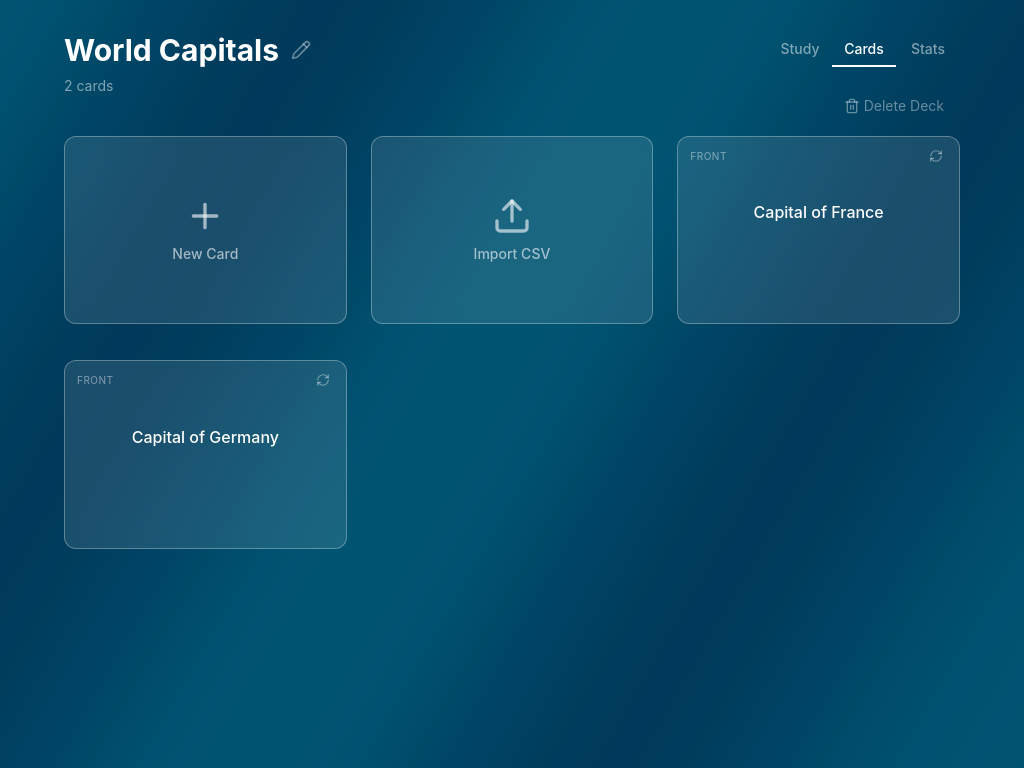
Test: DeckCardsPage › reverts card changes when revert button is clicked
Replace the text in the 1st text box showing "Capital of France" with "Something else": (819, 224) [694,200,943,248]
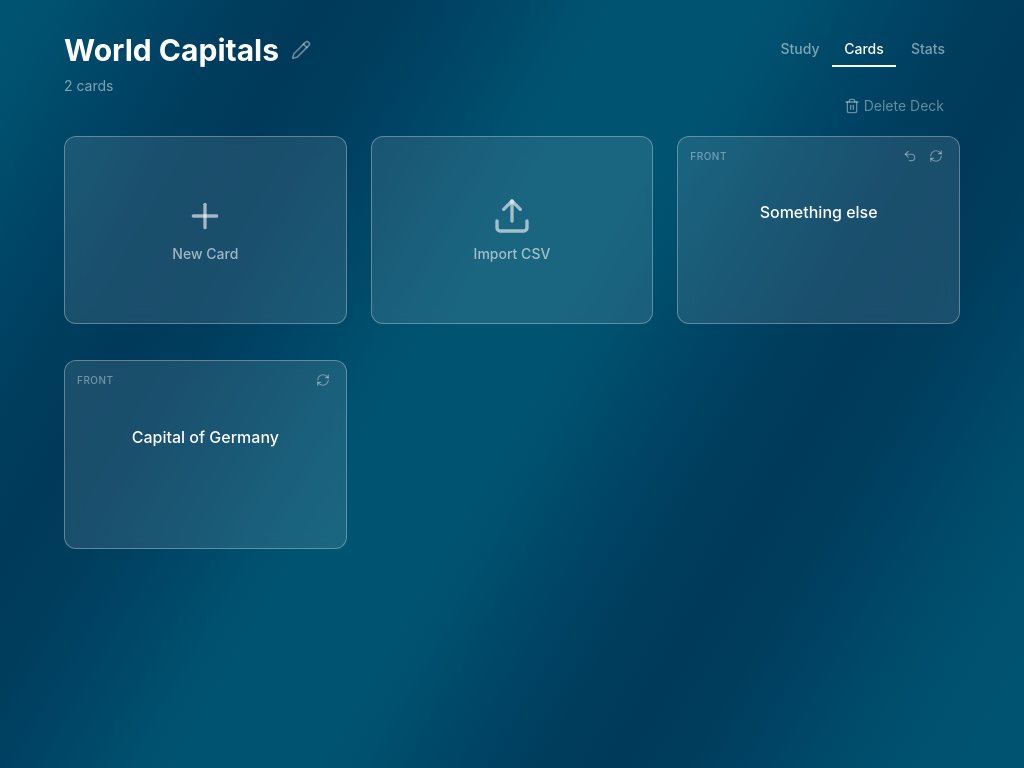
Expected: the button titled "Revert changes" is shown
Click the button titled "Revert changes": (910, 156) [899,145,921,167]
Wait 900 ms
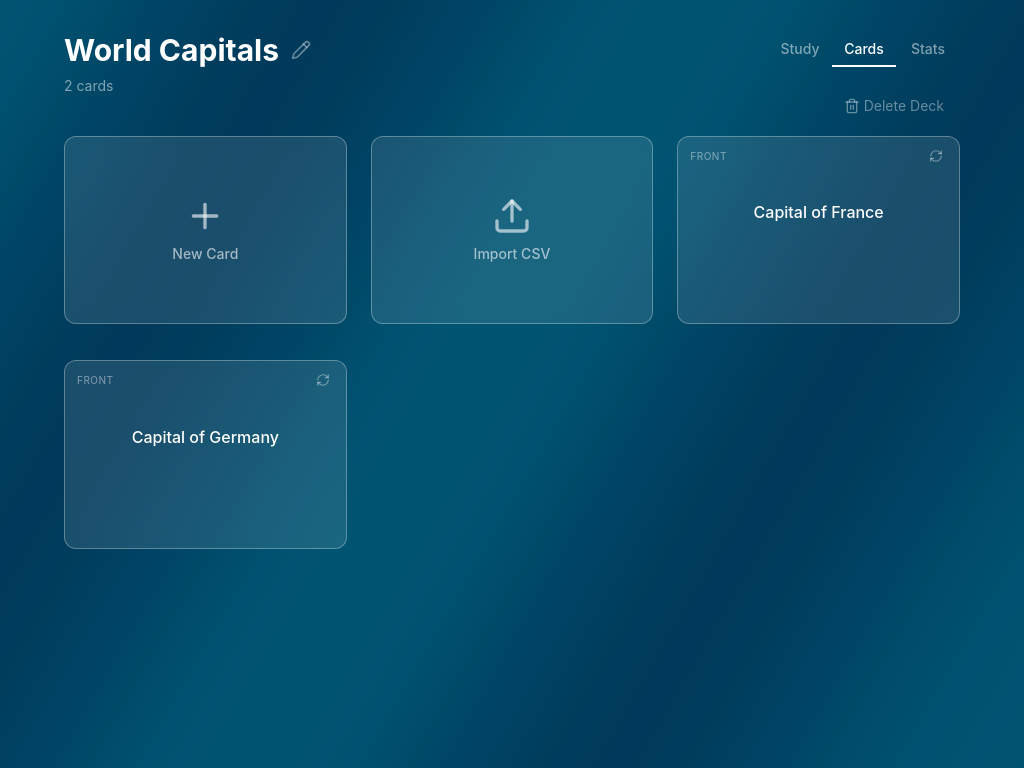
Expected: the field showing "Something else" is not shown
Expected: the 1st text box showing "Capital of France" is shown, [694,200,943,248]
